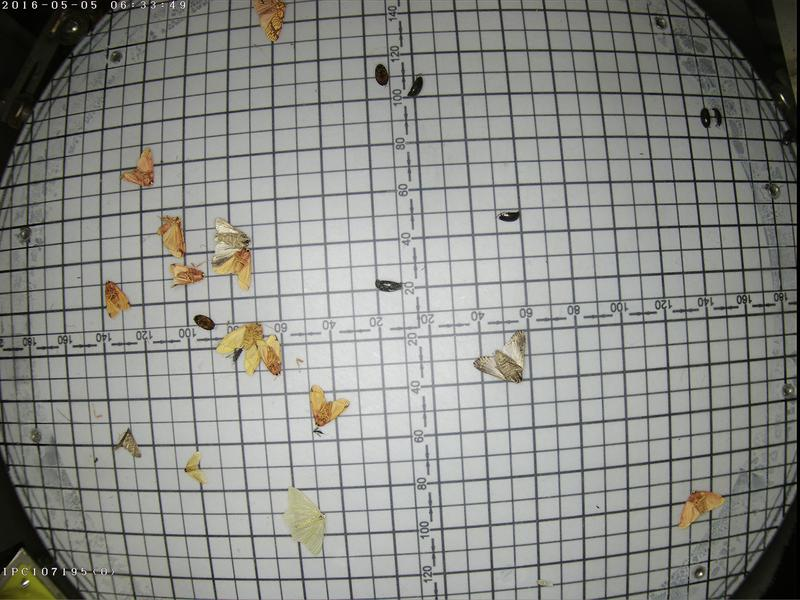Spodoptera litura: (471, 328, 531, 383), (207, 216, 251, 267)
